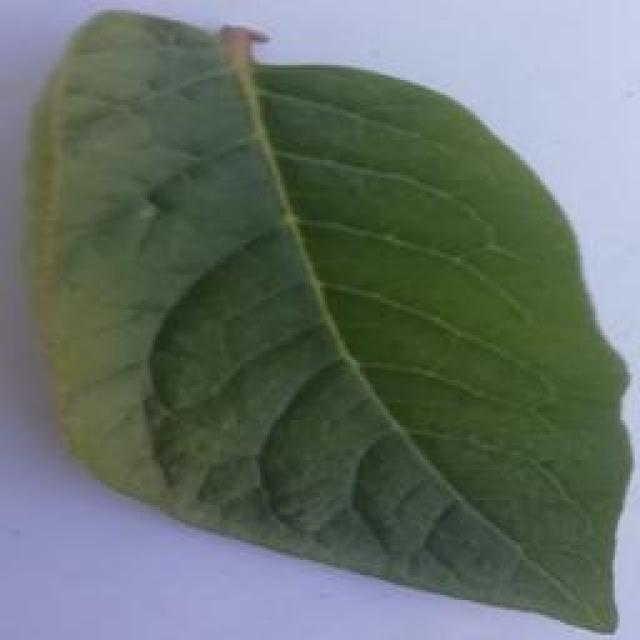Potato_Healthy: (26, 9, 620, 630)
